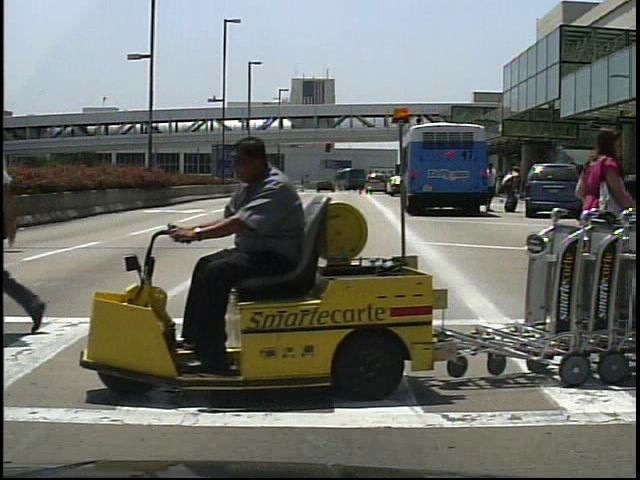person: (183, 134, 312, 374), (571, 120, 634, 351), (6, 100, 55, 337), (480, 162, 501, 215), (580, 164, 601, 214), (504, 164, 523, 217)
